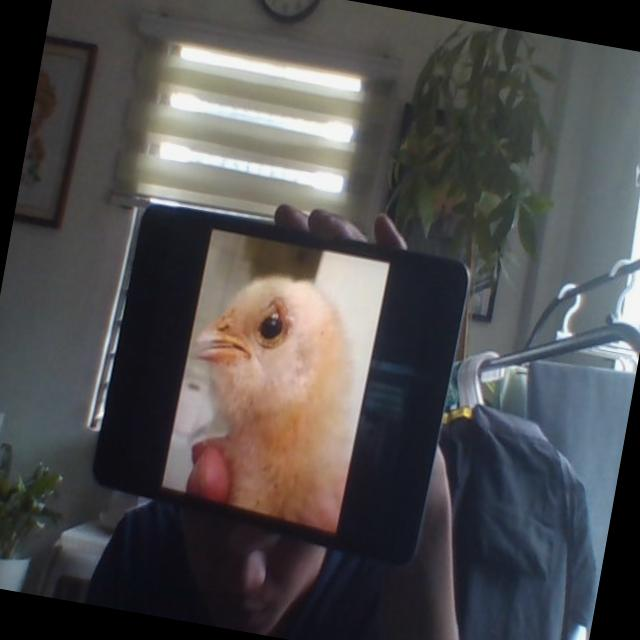Sick: (170, 260, 378, 530)
